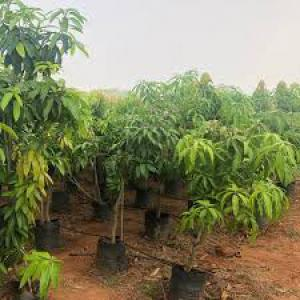Tree: (93, 67, 288, 292)
